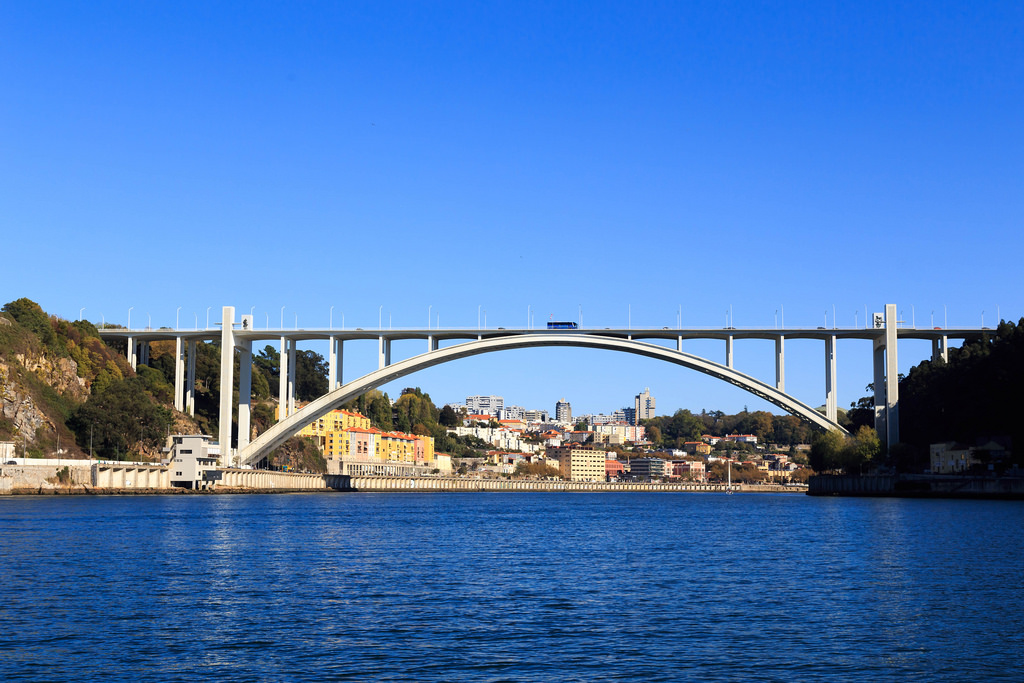arrabida: (100, 303, 999, 469)
